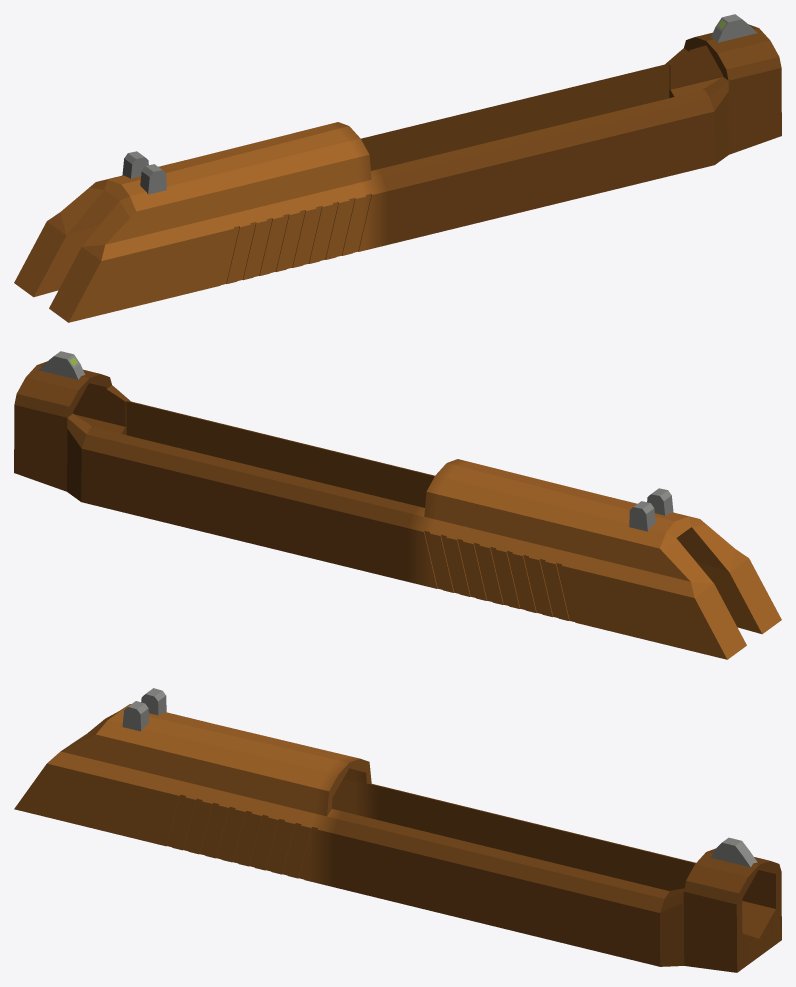
Rendered from Pistol1_03_2.fbx.
The picture shows the model from 3 angles, top to bottom: view 1: azimuth 30°, elevation 25°; view 2: azimuth 150°, elevation 25°; view 3: azimuth 330°, elevation 25°; orthographic projection.
Parts seen in each view (by area): view 1: Pistol1_03_2; view 2: Pistol1_03_2; view 3: Pistol1_03_2.
Part boxes in pixels (bbox=[...]): Pistol1_03_2: bbox=[14, 14, 781, 322]; Pistol1_03_2: bbox=[14, 351, 781, 659]; Pistol1_03_2: bbox=[14, 688, 781, 972].
Bounding box in the file's own units: 0.2348 × 0.0363 × 0.0308.
